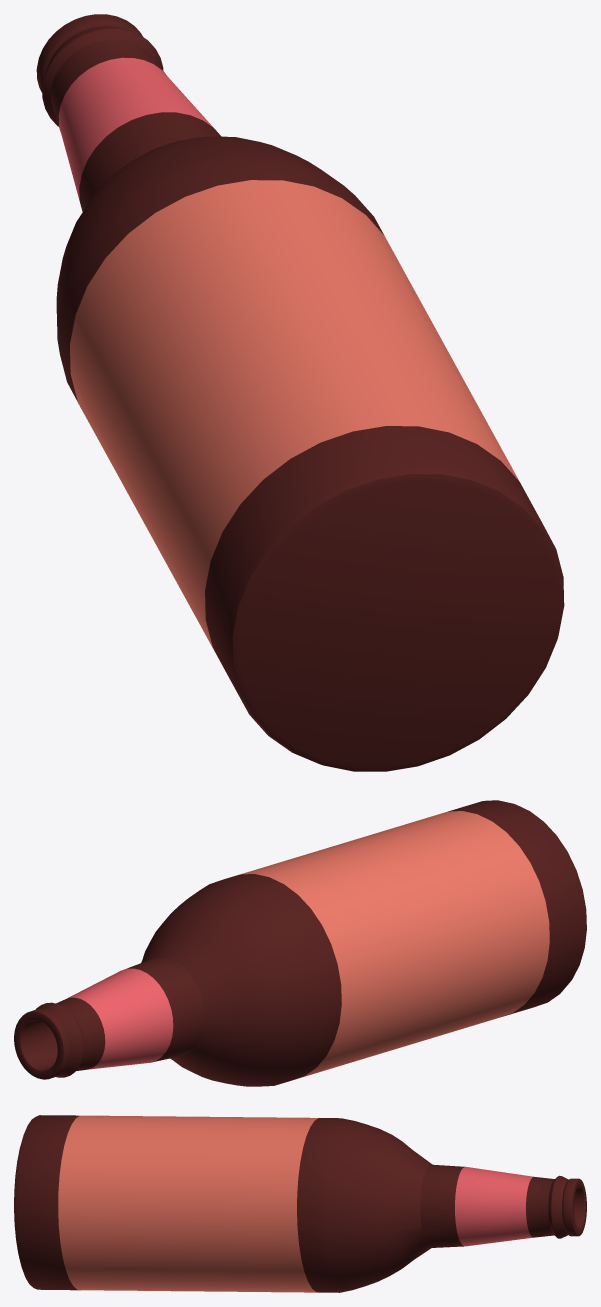
Rendered from beer bottle big.fbx.
3 renders of one model, top to bottom at view 1: azimuth 30°, elevation 25°; view 2: azimuth 150°, elevation 25°; view 3: azimuth 270°, elevation 25°, orthographic. The views are drawn at different scales.
Visible parts, largest first — view 1: Beer Bottle; view 2: Beer Bottle; view 3: Beer Bottle.
Part boxes in pixels (x1,y1,x2,y2): Beer Bottle: (36, 14, 564, 771); Beer Bottle: (14, 800, 586, 1086); Beer Bottle: (14, 1115, 586, 1292).
Bounding box in the file's own units: 88.98 × 73.77 × 205.
